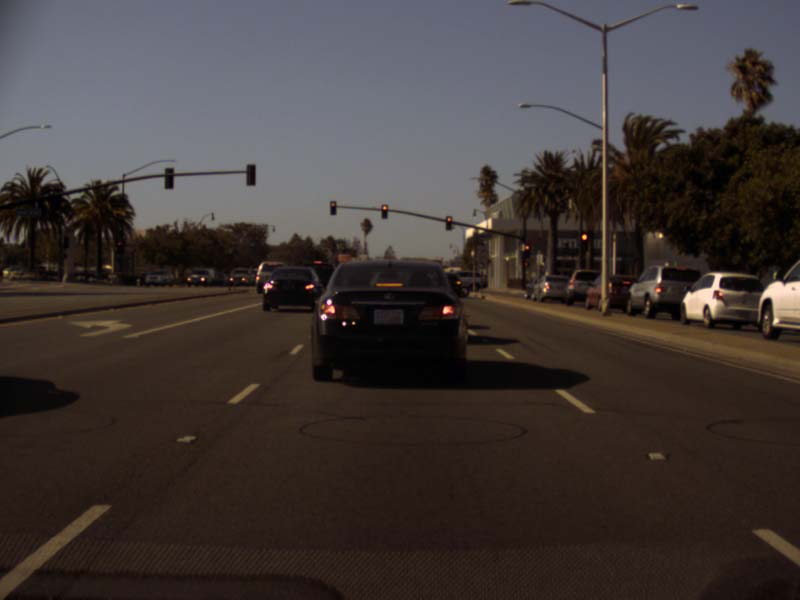Red: (580, 231, 588, 250), (381, 205, 388, 220), (445, 215, 451, 230), (330, 201, 336, 215), (524, 245, 529, 257)
